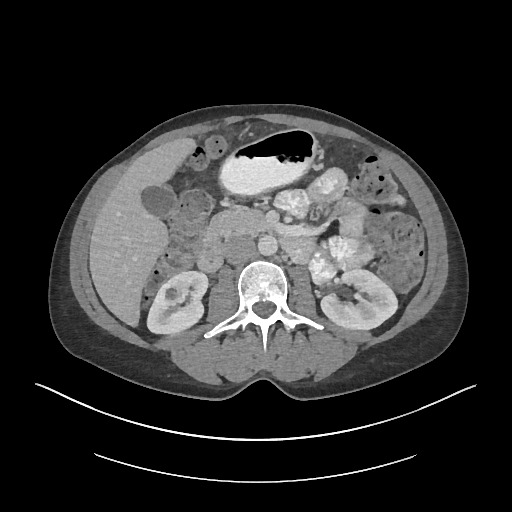Lesion: (161, 284, 183, 306)
